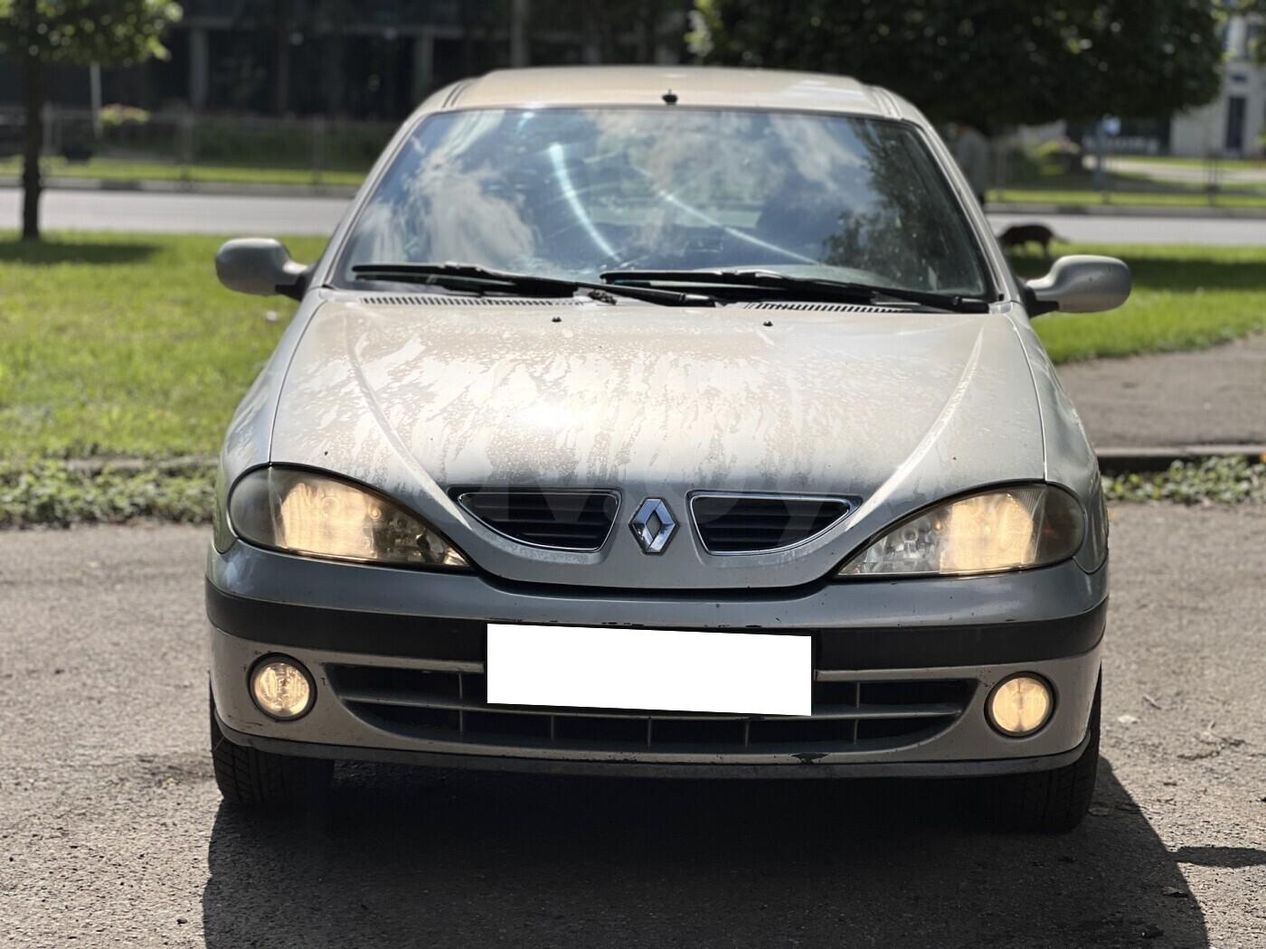Megane_1999-2003: (189, 61, 1120, 822)
